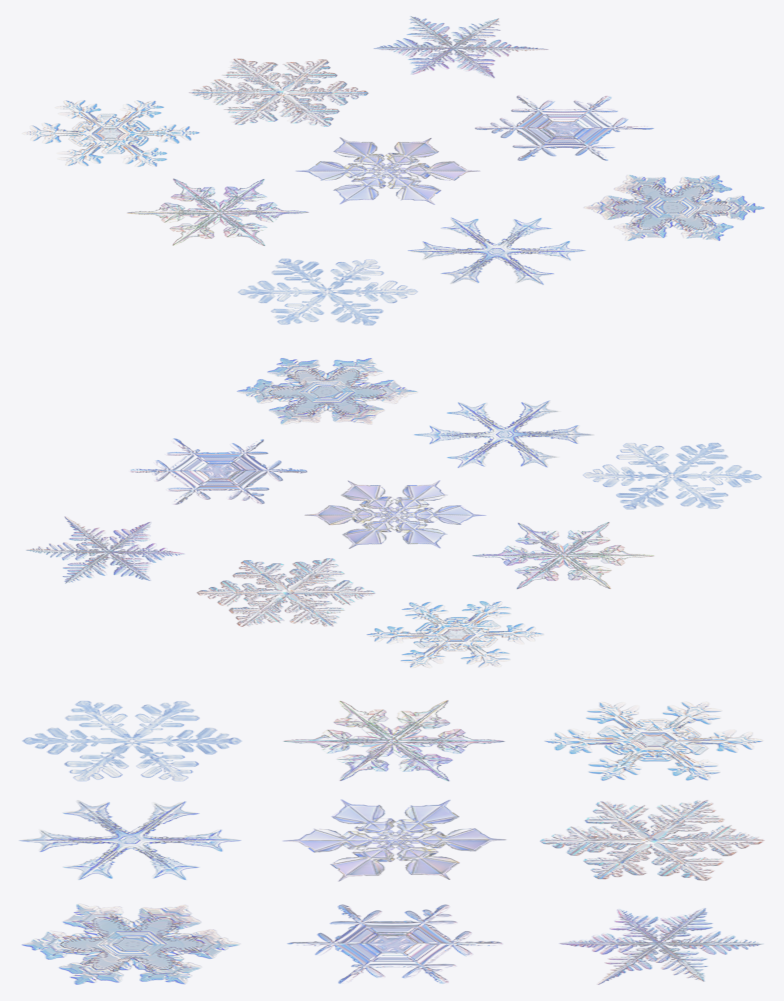
Rendered from snowflakes_lowres2.glb.
The picture shows the model from 3 angles, top to bottom: view 1: azimuth 30°, elevation 25°; view 2: azimuth 150°, elevation 25°; view 3: azimuth 270°, elevation 25°; orthographic projection. The views are drawn at different scales.
Parts seen in each view (by area): view 1: flake.009, flake.002, flake.005, flake.007, flake.001, flake.004, flake.006, flake.003, flake.008; view 2: flake.009, flake.002, flake.005, flake.007, flake.001, flake.004, flake.006, flake.003, flake.008; view 3: flake.009, flake.002, flake.005, flake.001, flake.007, flake.004, flake.006, flake.003, flake.008.
Boxes of the visible parts, box(x1,y1,x2,y2) form: flake.009: box(583, 175, 764, 240); flake.002: box(189, 58, 368, 126); flake.005: box(296, 137, 479, 204); flake.007: box(237, 258, 417, 325); flake.001: box(22, 100, 199, 166); flake.004: box(127, 178, 308, 245); flake.006: box(475, 95, 653, 160); flake.003: box(373, 16, 548, 78); flake.008: box(408, 217, 585, 284); flake.009: box(237, 358, 417, 424); flake.002: box(196, 558, 375, 626); flake.005: box(305, 480, 486, 548); flake.007: box(583, 443, 761, 509); flake.001: box(366, 601, 543, 667); flake.004: box(472, 522, 653, 588); flake.006: box(130, 438, 307, 504); flake.003: box(26, 516, 184, 583); flake.008: box(414, 400, 593, 467); flake.009: box(21, 904, 239, 984); flake.002: box(540, 800, 764, 880); flake.005: box(283, 799, 505, 881); flake.001: box(544, 702, 762, 780); flake.007: box(22, 701, 241, 781); flake.004: box(283, 700, 504, 781); flake.006: box(287, 904, 502, 983); flake.003: box(559, 908, 762, 984); flake.008: box(19, 800, 241, 880).
Bounding box in the file's own units: 5.83 × 0 × 6.45.
Materials: 1 (1 with a texture image).
